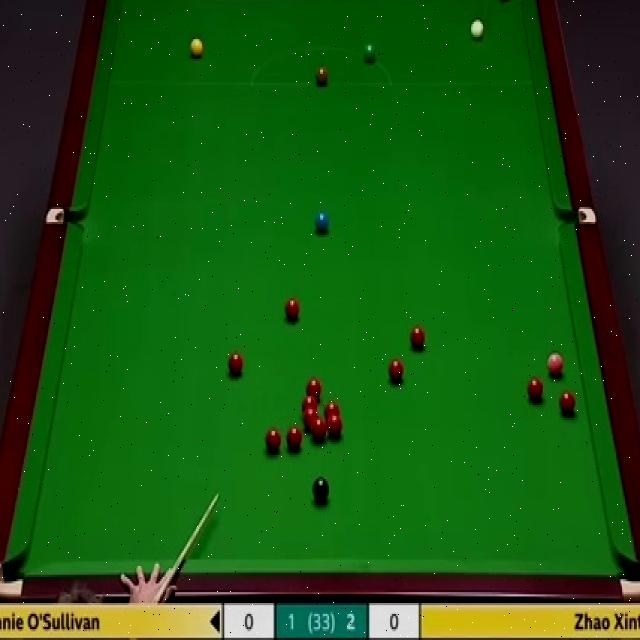black-ball: (312, 474, 330, 506)
blue-ball: (314, 212, 330, 234)
brown-ball: (314, 65, 328, 87)
green-ball: (362, 43, 377, 64)
pink-ball: (547, 351, 564, 378)
red-ball: (227, 350, 245, 380), (286, 424, 304, 454), (264, 426, 282, 454), (528, 377, 546, 403), (326, 414, 343, 441), (387, 358, 404, 385), (559, 391, 577, 416), (411, 324, 426, 351), (284, 299, 301, 322), (311, 417, 326, 441), (304, 378, 322, 396), (303, 409, 318, 429), (302, 394, 317, 412), (324, 403, 340, 418)
white-ball: (468, 14, 488, 47)
yellow-ball: (190, 38, 205, 61)
